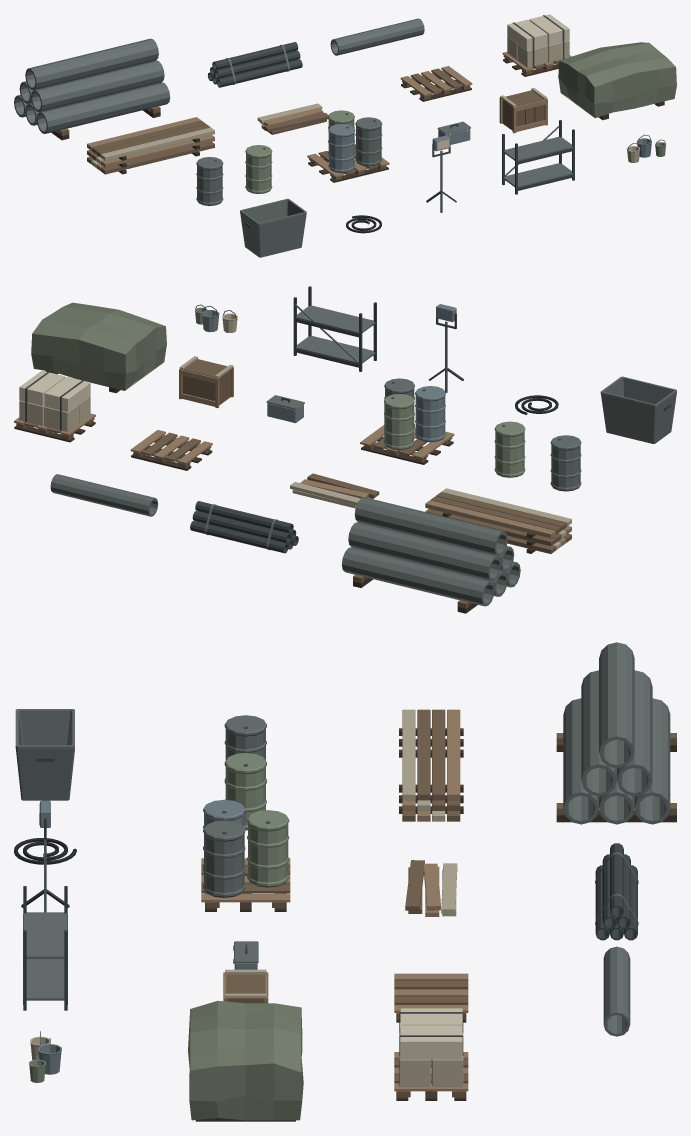
Rendered from BellYard_EnvironmentalProps.fbx.
3 renders of one model, top to bottom at view 1: azimuth 30°, elevation 25°; view 2: azimuth 150°, elevation 25°; view 3: azimuth 270°, elevation 25°, orthographic. The views are drawn at different scales.
Parts seen in each view (by area): view 1: Bell_LargePipeStack, Bell_CoveredMaterials, Bell_StackedTimber, Bell_DrumPallet, Bell_LoadedPallet, Bell_OpenScrapContainer, Bell_LowStorageRack, Bell_SmallPipeBundle, Bell_WoodUtilityCrate, Bell_IndividualPipe, Bell_StandardPallet, Bell_LooseLumber (+6 smaller); view 2: Bell_LargePipeStack, Bell_CoveredMaterials, Bell_DrumPallet, Bell_StackedTimber, Bell_LoadedPallet, Bell_OpenScrapContainer, Bell_LowStorageRack, Bell_SmallPipeBundle, Bell_WoodUtilityCrate, Bell_IndividualPipe, Bell_StandardPallet, Bell_LooseLumber (+6 smaller); view 3: Bell_LargePipeStack, Bell_CoveredMaterials, Bell_DrumPallet, Bell_StackedTimber, Bell_LoadedPallet, Bell_OpenScrapContainer, Bell_LowStorageRack, Bell_SmallPipeBundle, Bell_StandardPallet, Bell_LooseLumber, Bell_IndividualPipe, Bell_Drum_Green (+6 smaller).
Boxes of the visible parts, x1,y1,x2,y2 form: Bell_LargePipeStack: [14, 38, 170, 140]; Bell_CoveredMaterials: [558, 42, 676, 120]; Bell_StackedTimber: [87, 117, 214, 174]; Bell_DrumPallet: [307, 110, 389, 182]; Bell_LoadedPallet: [502, 14, 571, 76]; Bell_OpenScrapContainer: [240, 198, 306, 257]; Bell_LowStorageRack: [502, 120, 574, 194]; Bell_SmallPipeBundle: [207, 42, 302, 87]; Bell_WoodUtilityCrate: [499, 88, 547, 133]; Bell_IndividualPipe: [330, 18, 424, 55]; Bell_StandardPallet: [400, 66, 472, 101]; Bell_LooseLumber: [257, 103, 328, 134]; Bell_LargePipeStack: [342, 497, 520, 613]; Bell_CoveredMaterials: [31, 302, 166, 393]; Bell_DrumPallet: [360, 378, 454, 464]; Bell_StackedTimber: [425, 488, 571, 553]; Bell_LoadedPallet: [14, 370, 95, 442]; Bell_OpenScrapContainer: [600, 376, 676, 443]; Bell_LowStorageRack: [293, 286, 376, 371]; Bell_SmallPipeBundle: [190, 501, 298, 553]; Bell_WoodUtilityCrate: [179, 356, 233, 408]; Bell_IndividualPipe: [50, 474, 158, 516]; Bell_StandardPallet: [130, 430, 212, 470]; Bell_LooseLumber: [290, 473, 379, 508]; Bell_LargePipeStack: [556, 642, 676, 824]; Bell_CoveredMaterials: [188, 1000, 303, 1121]; Bell_DrumPallet: [201, 799, 290, 911]; Bell_StackedTimber: [399, 709, 463, 821]; Bell_LoadedPallet: [394, 1008, 468, 1100]; Bell_OpenScrapContainer: [15, 709, 74, 800]; Bell_LowStorageRack: [23, 886, 67, 1010]; Bell_SmallPipeBundle: [595, 843, 638, 940]; Bell_StandardPallet: [394, 973, 468, 1022]; Bell_LooseLumber: [405, 860, 457, 916]; Bell_IndividualPipe: [603, 946, 630, 1036]; Bell_Drum_Green: [224, 753, 266, 830].
Bounding box in the file's own units: 12.54 × 1.6 × 8.93.
